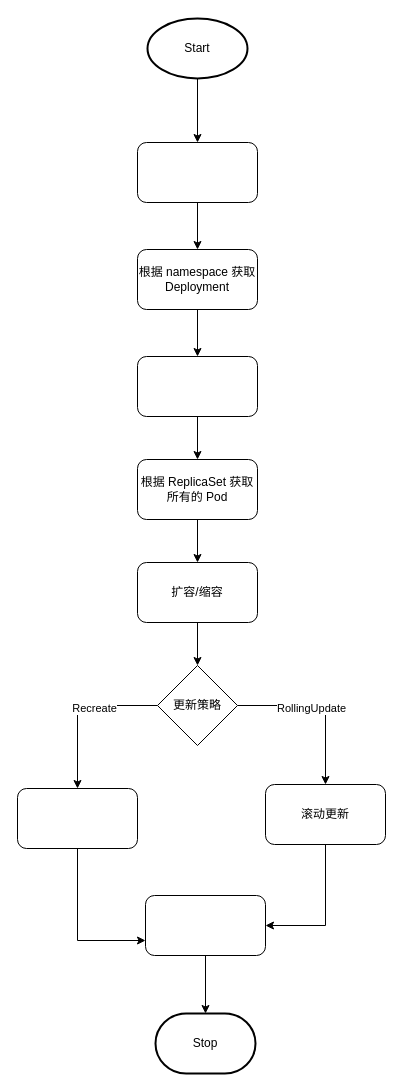
Image size: 403x1091. Some labels were removed from this diagram. Here are the shapes that lost their labels. From the top down, the centre of each, then its label:
At point 197,172: "根据传入的 key 获取 namespace".
At point 197,386: "根据 Deplment 获取所有的ReplicaSet".
At point 77,818: "重新创建".
At point 205,925: "更新 Deploment 状态".
